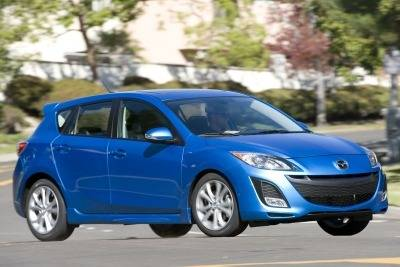Mazda3 Hatchback: (12, 88, 389, 241)
